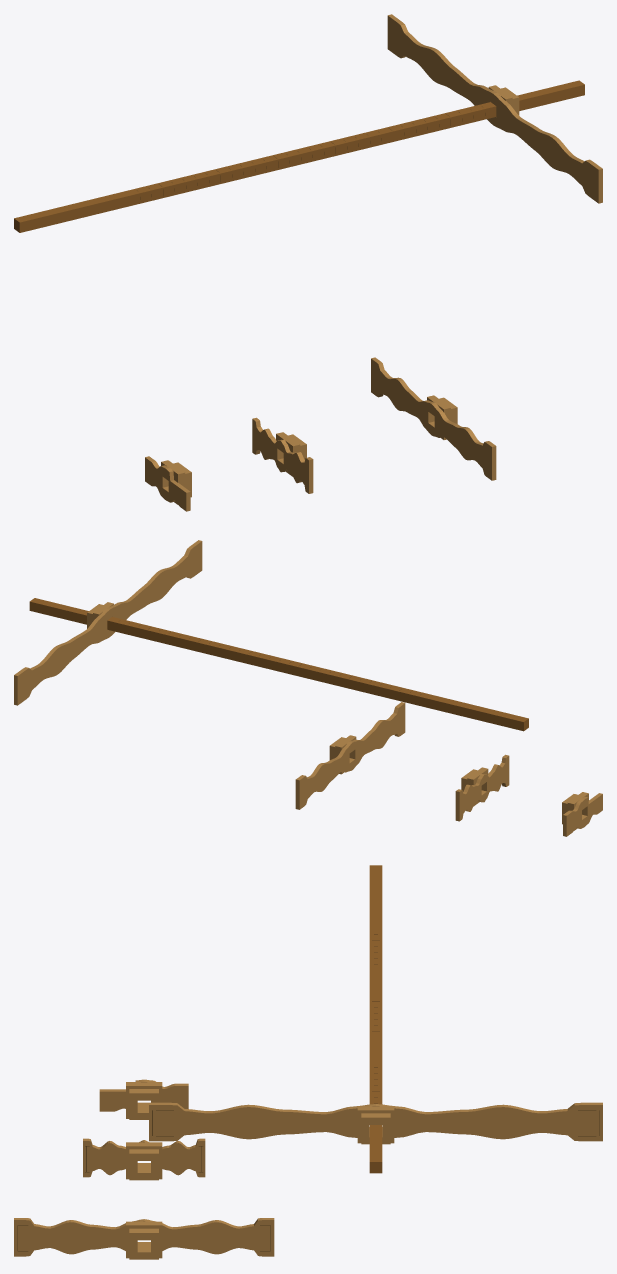
File: NEW688_CrossStaff_LOD1_v001.glb
The picture shows the model from 3 angles, top to bottom: view 1: azimuth 30°, elevation 25°; view 2: azimuth 150°, elevation 25°; view 3: azimuth 270°, elevation 25°; orthographic projection. The views are drawn at different scales.
Parts seen in each view (by area): view 1: Staff_787mm, Vane_509mm_mounted_carved_body, Vane_292mm_spare_carved_body, Vane_137mm_spare_carved_body, Vane_100mm_spare_carved_body; view 2: Staff_787mm, Vane_509mm_mounted_carved_body, Vane_292mm_spare_carved_body, Vane_137mm_spare_carved_body, Vane_100mm_spare_carved_body; view 3: Vane_509mm_mounted_carved_body, Vane_292mm_spare_carved_body, Staff_787mm, Vane_137mm_spare_carved_body, Vane_100mm_spare_carved_body, Vane_292mm_spare_stepped_collar_lip, Vane_137mm_spare_stepped_collar_lip, Vane_509mm_mounted_stepped_collar_lip, Vane_100mm_spare_stepped_collar_lip, Vane_509mm_mounted_stepped_collar_base, Vane_137mm_spare_stepped_collar_base, Vane_292mm_spare_stepped_collar_base.
Part boxes in pixels (x1=…): Staff_787mm: x1=14, y1=80, x2=584, y2=232; Vane_509mm_mounted_carved_body: x1=387, y1=14, x2=602, y2=203; Vane_292mm_spare_carved_body: x1=371, y1=357, x2=496, y2=480; Vane_137mm_spare_carved_body: x1=252, y1=417, x2=313, y2=493; Vane_100mm_spare_carved_body: x1=145, y1=456, x2=190, y2=511; Staff_787mm: x1=29, y1=598, x2=528, y2=731; Vane_509mm_mounted_carved_body: x1=14, y1=540, x2=202, y2=705; Vane_292mm_spare_carved_body: x1=295, y1=702, x2=405, y2=809; Vane_137mm_spare_carved_body: x1=455, y1=754, x2=509, y2=821; Vane_100mm_spare_carved_body: x1=563, y1=793, x2=602, y2=836; Vane_509mm_mounted_carved_body: x1=149, y1=1102, x2=602, y2=1141; Vane_292mm_spare_carved_body: x1=14, y1=1218, x2=274, y2=1256; Staff_787mm: x1=369, y1=865, x2=382, y2=1173; Vane_137mm_spare_carved_body: x1=83, y1=1138, x2=205, y2=1177; Vane_100mm_spare_carved_body: x1=99, y1=1079, x2=188, y2=1111; Vane_292mm_spare_stepped_collar_lip: x1=129, y1=1228, x2=158, y2=1259; Vane_137mm_spare_stepped_collar_lip: x1=129, y1=1149, x2=158, y2=1180; Vane_509mm_mounted_stepped_collar_lip: x1=361, y1=1113, x2=390, y2=1144; Vane_100mm_spare_stepped_collar_lip: x1=129, y1=1089, x2=158, y2=1119; Vane_509mm_mounted_stepped_collar_base: x1=357, y1=1106, x2=394, y2=1143; Vane_137mm_spare_stepped_collar_base: x1=126, y1=1142, x2=162, y2=1179; Vane_292mm_spare_stepped_collar_base: x1=126, y1=1221, x2=162, y2=1258.
Size of the model in its own units: 0.787 by 0.2975 by 0.6605.
